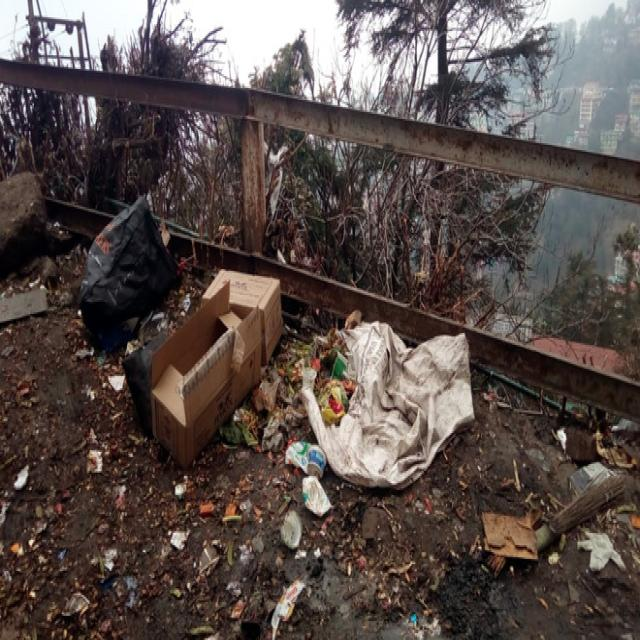garbage: (0, 103, 640, 640)
